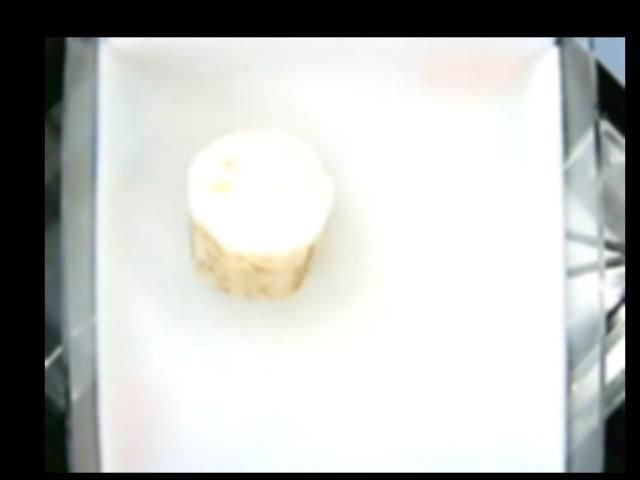Mooli: (186, 126, 334, 299)
